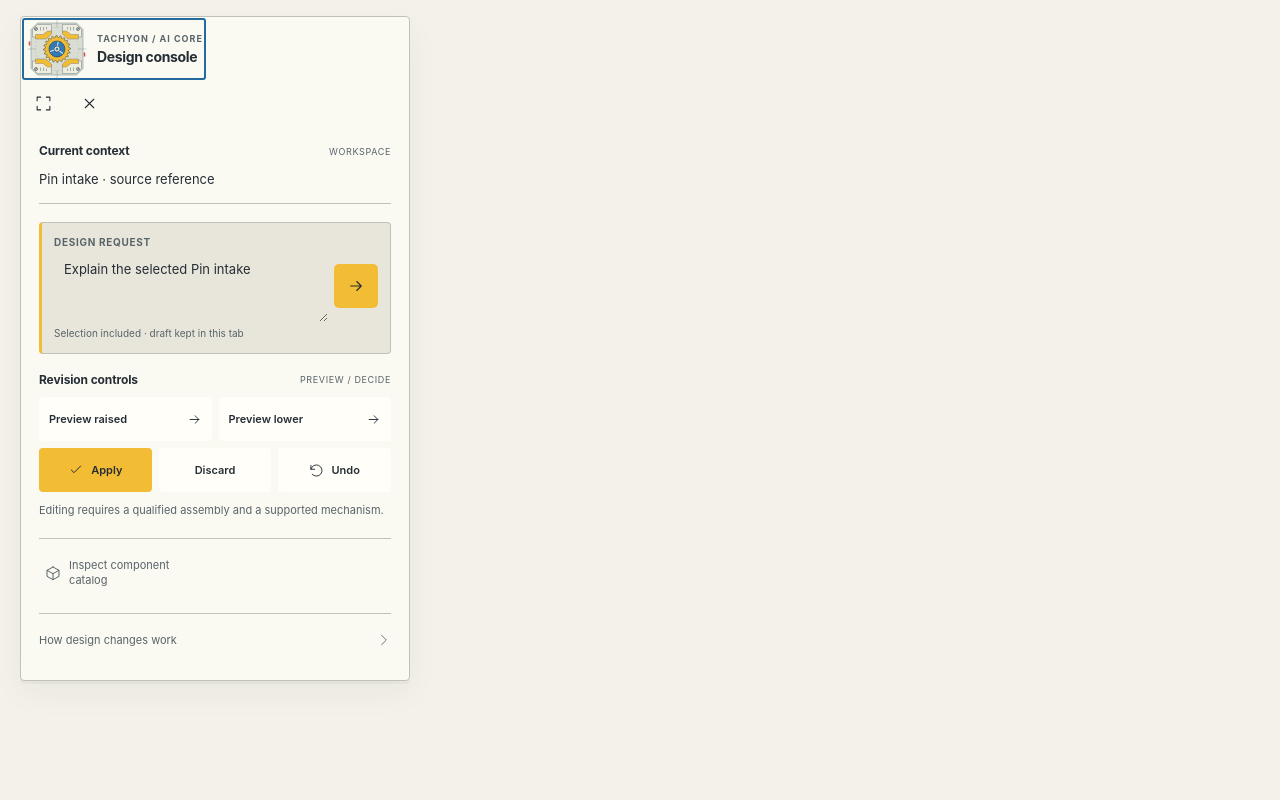
it: prevents a second command or revision action while a decision is pending
This screenshot has width=1280, height=800.
Click the button "Apply": (95, 470) [39,448,152,492]
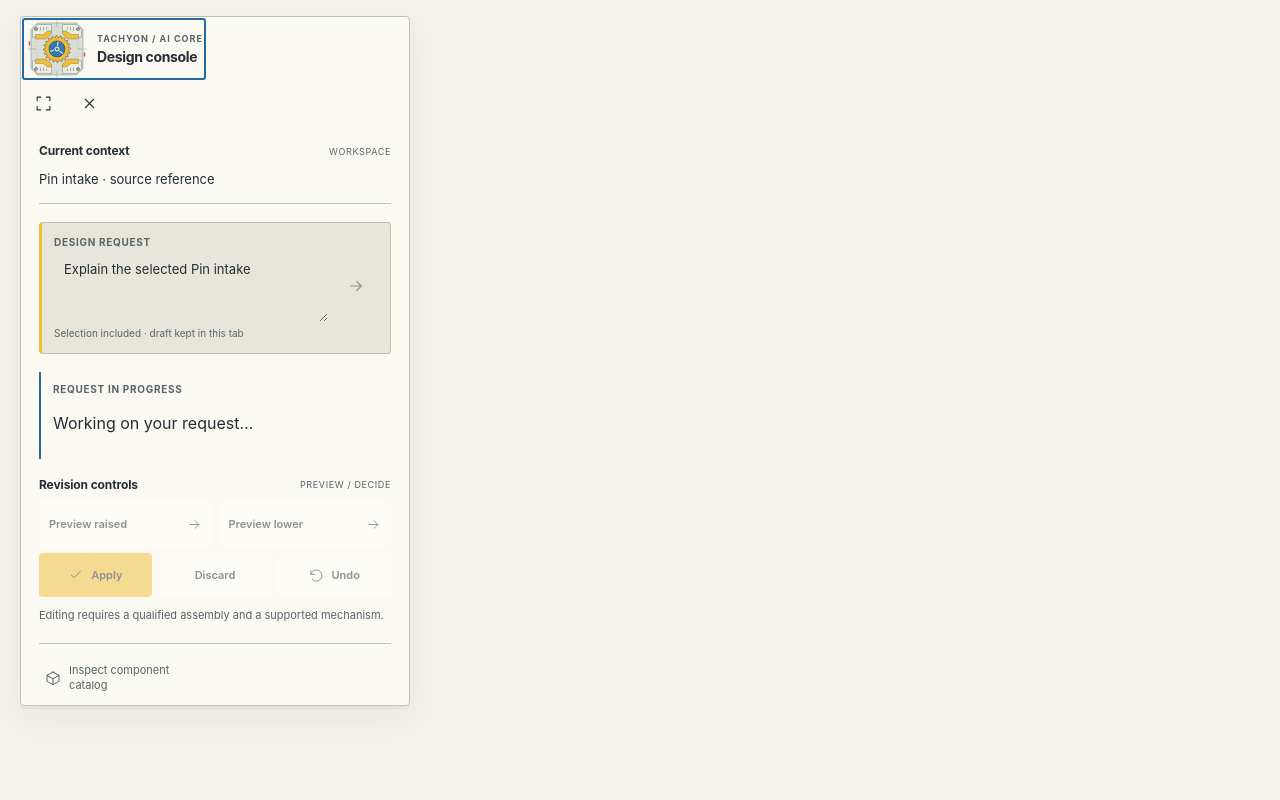
Expected: the button "Preview raised" is disabled, [39,502,212,546]
Expected: the button "Preview lower" is disabled, [218,502,391,546]
Expected: the button "Apply" is disabled, [39,553,152,597]
Submit the form "Design request", box [39,222,391,354]
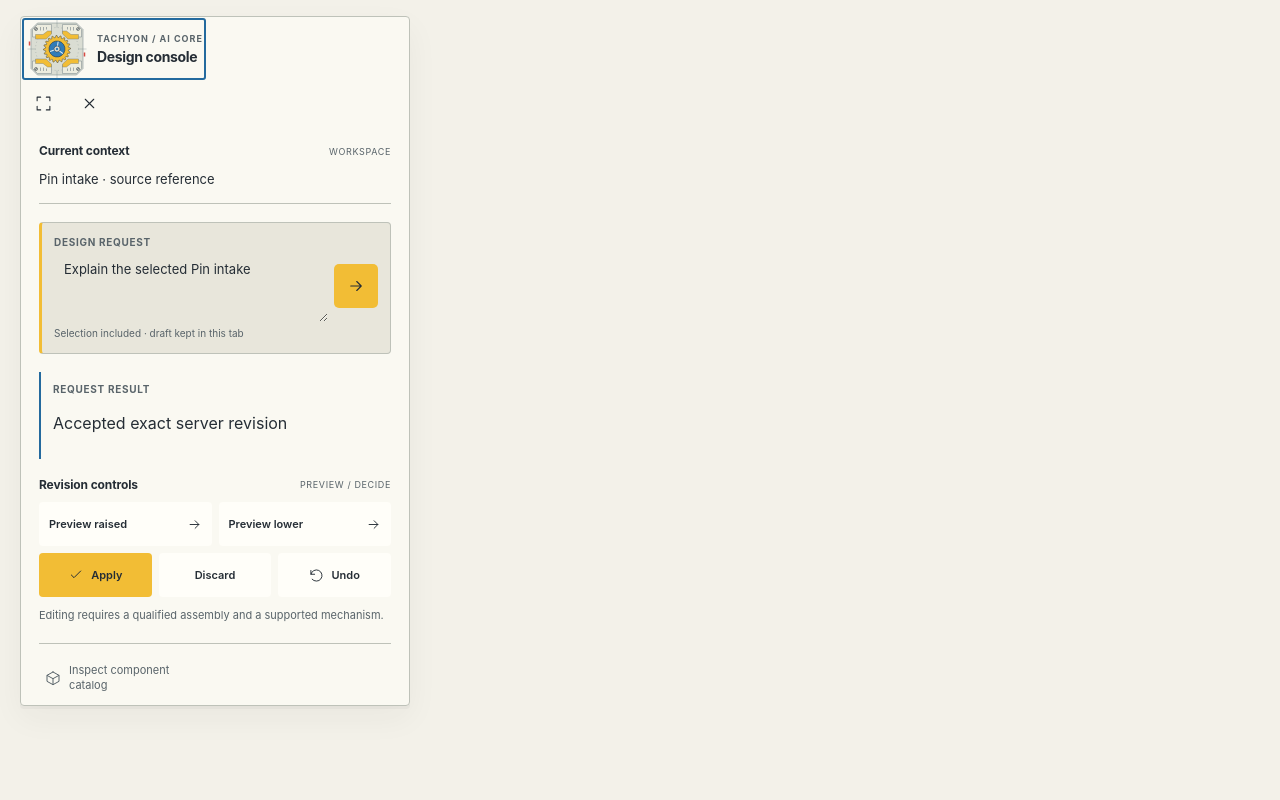
Expected: the message shows "Accepted exact server revision", [53,413,287,433]
